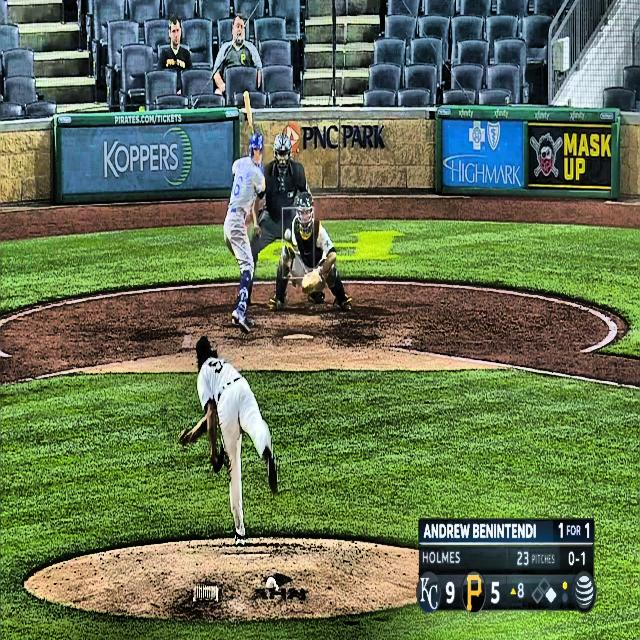baseball: (284, 227, 291, 242)
